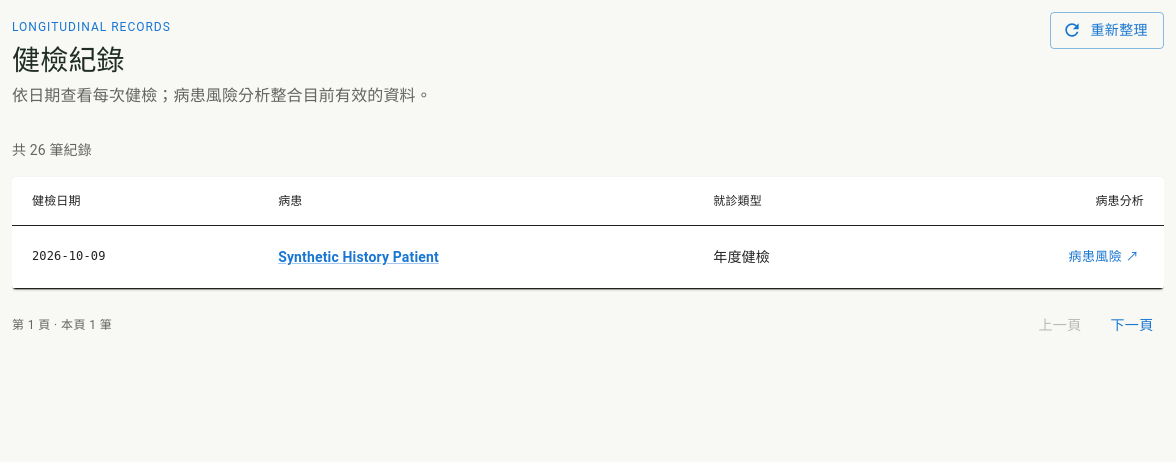
history uses total count, sourced fields, patient links and page navigation
Expected: the text "共 26 筆紀錄" is shown, [12,142,92,158]
Click the button "下一頁".
click(1132, 326)  # box [1100,307,1164,344]
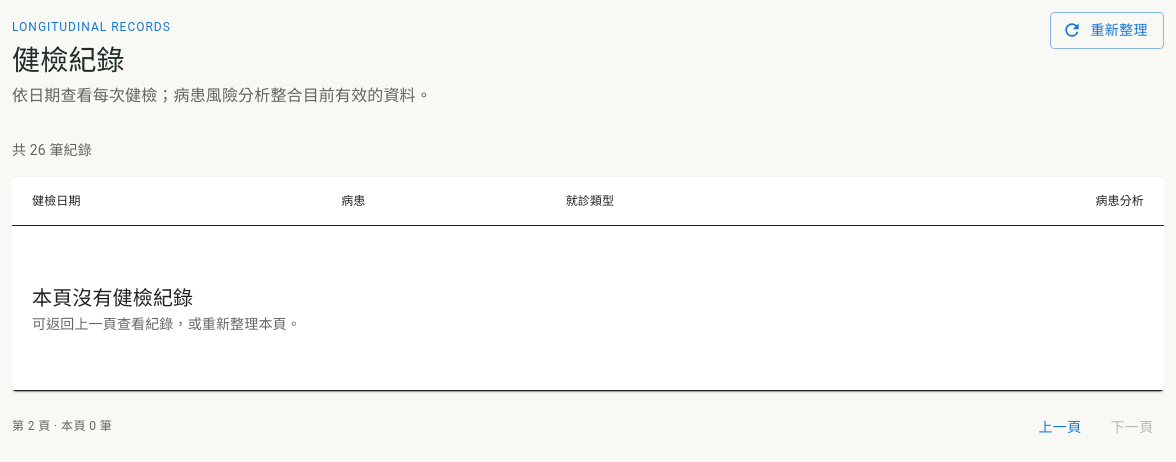
Result: the text "第 2 頁 · 本頁 0 筆" is shown at [12,417,112,437]
Result: the heading "本頁沒有健檢紀錄" is shown at [32,286,193,310]
Result: the button "上一頁" is enabled at [1028,408,1092,445]
